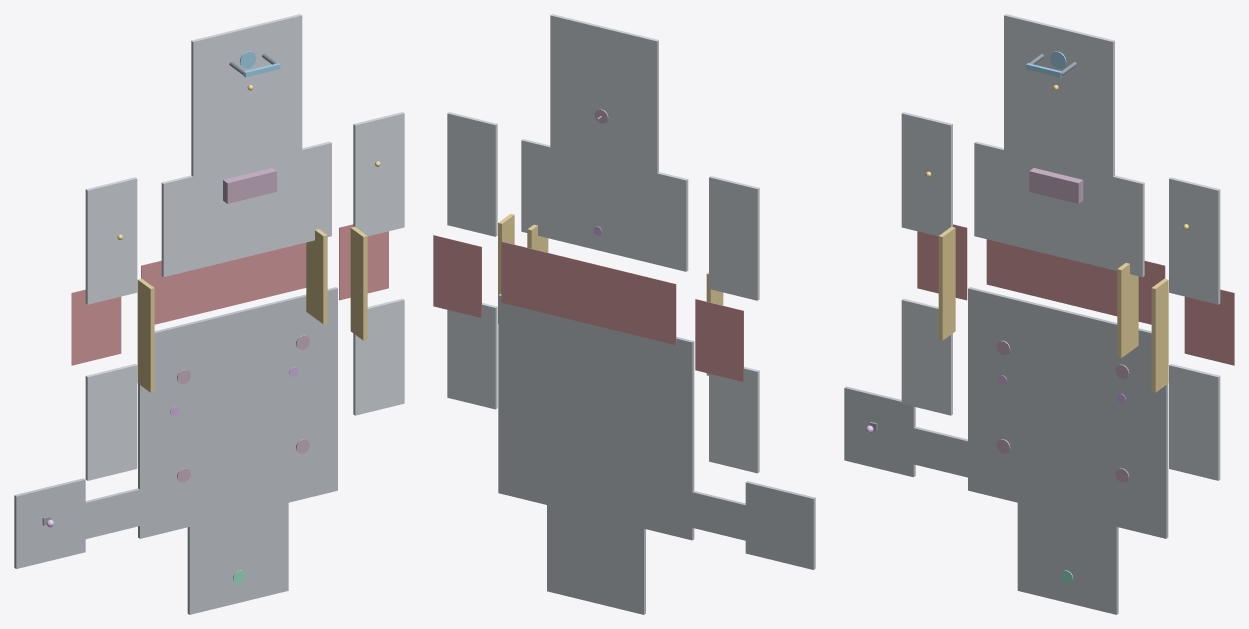
File: level_08_school_dance__romantic.glb
The picture shows the model from 3 angles, left to right: view 1: azimuth 30°, elevation 25°; view 2: azimuth 150°, elevation 25°; view 3: azimuth 330°, elevation 25°; orthographic projection. The views are drawn at different scales.
Visible parts, largest first — view 1: DANCE_FLOOR_0002, FINAL_HALL_0008, CENTRAL_STAGE_LANDING_0007, FOYER_0001, VOID_DEBUG_NONCOLLIDING_0015, LEFT_BALCONY_EXIT_0004, RIGHT_BALCONY_EXIT_0006, LEFT_BALCONY_ENTRY_0003, LEFT_CLOAKROOM_0009, RIGHT_BALCONY_ENTRY_0005, VOID_DEBUG_NONCOLLIDING_0013, CLOAKROOM_CONNECTION_SEG1_0010 (+5 smaller); view 2: DANCE_FLOOR_0002, CENTRAL_STAGE_LANDING_0007, FINAL_HALL_0008, VOID_DEBUG_NONCOLLIDING_0015, FOYER_0001, RIGHT_BALCONY_EXIT_0006, LEFT_BALCONY_EXIT_0004, LEFT_CLOAKROOM_0009, LEFT_BALCONY_ENTRY_0003, RIGHT_BALCONY_ENTRY_0005, VOID_DEBUG_NONCOLLIDING_0013, VOID_DEBUG_NONCOLLIDING_0014 (+2 smaller); view 3: DANCE_FLOOR_0002, CENTRAL_STAGE_LANDING_0007, FINAL_HALL_0008, FOYER_0001, VOID_DEBUG_NONCOLLIDING_0015, RIGHT_BALCONY_EXIT_0006, LEFT_BALCONY_EXIT_0004, RIGHT_BALCONY_ENTRY_0005, LEFT_CLOAKROOM_0009, LEFT_BALCONY_ENTRY_0003, VOID_DEBUG_NONCOLLIDING_0014, CLOAKROOM_CONNECTION_SEG1_0010 (+5 smaller).
Boxes of the visible parts, <box> form: DANCE_FLOOR_0002: <box>138,287,337,538</box>; FINAL_HALL_0008: <box>191,14,302,176</box>; CENTRAL_STAGE_LANDING_0007: <box>161,141,331,277</box>; FOYER_0001: <box>187,503,288,614</box>; VOID_DEBUG_NONCOLLIDING_0015: <box>141,242,306,324</box>; LEFT_BALCONY_EXIT_0004: <box>85,177,137,304</box>; RIGHT_BALCONY_EXIT_0006: <box>353,112,404,236</box>; LEFT_BALCONY_ENTRY_0003: <box>85,364,137,480</box>; LEFT_CLOAKROOM_0009: <box>14,478,85,568</box>; RIGHT_BALCONY_ENTRY_0005: <box>353,298,404,415</box>; VOID_DEBUG_NONCOLLIDING_0013: <box>71,289,121,365</box>; CLOAKROOM_CONNECTION_SEG1_0010: <box>85,486,153,538</box>; DANCE_FLOOR_0002: <box>498,294,694,540</box>; CENTRAL_STAGE_LANDING_0007: <box>521,139,688,271</box>; FINAL_HALL_0008: <box>550,14,658,173</box>; VOID_DEBUG_NONCOLLIDING_0015: <box>501,241,676,344</box>; FOYER_0001: <box>547,505,645,614</box>; RIGHT_BALCONY_EXIT_0006: <box>447,112,497,236</box>; LEFT_BALCONY_EXIT_0004: <box>709,176,759,300</box>; LEFT_CLOAKROOM_0009: <box>745,481,815,569</box>; LEFT_BALCONY_ENTRY_0003: <box>709,366,759,473</box>; RIGHT_BALCONY_ENTRY_0005: <box>447,303,497,409</box>; VOID_DEBUG_NONCOLLIDING_0013: <box>695,299,743,381</box>; VOID_DEBUG_NONCOLLIDING_0014: <box>433,235,481,317</box>; DANCE_FLOOR_0002: <box>968,287,1168,538</box>; CENTRAL_STAGE_LANDING_0007: <box>974,141,1144,277</box>; FINAL_HALL_0008: <box>1004,14,1114,176</box>; FOYER_0001: <box>1017,503,1118,614</box>; VOID_DEBUG_NONCOLLIDING_0015: <box>986,239,1165,324</box>; RIGHT_BALCONY_EXIT_0006: <box>1169,177,1220,304</box>; LEFT_BALCONY_EXIT_0004: <box>901,112,952,236</box>; RIGHT_BALCONY_ENTRY_0005: <box>1169,364,1220,480</box>; LEFT_CLOAKROOM_0009: <box>844,386,915,477</box>; LEFT_BALCONY_ENTRY_0003: <box>901,298,952,415</box>; VOID_DEBUG_NONCOLLIDING_0014: <box>1184,289,1234,365</box>; CLOAKROOM_CONNECTION_SEG1_0010: <box>900,425,981,480</box>.
Size of the model in its own units: 77 by 112 by 11.48.
